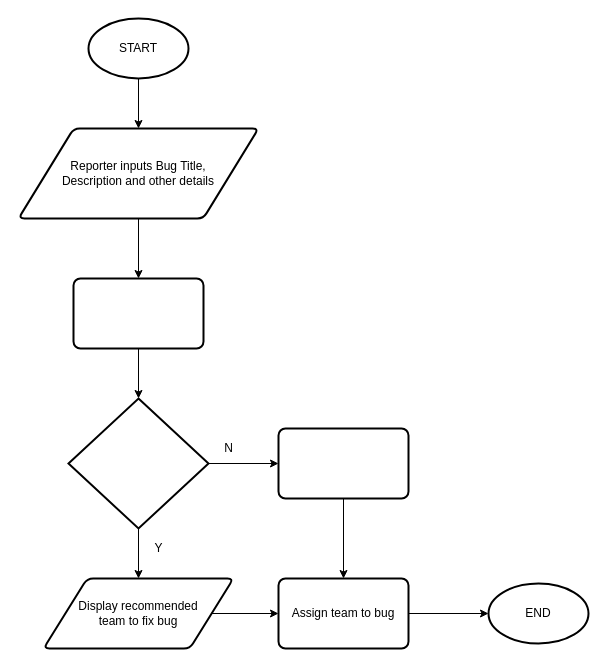
Some shapes in this 606 by 666 pixel diagram are drawn without their labels. Each missing label, with the centre of its shape:
"Model retrieved a Team to fix bug?" belongs at (138,463).
"Reporter to manually assess team to fix bug" belongs at (343,463).
"Retrieve data from Trained Model" belongs at (138,313).
